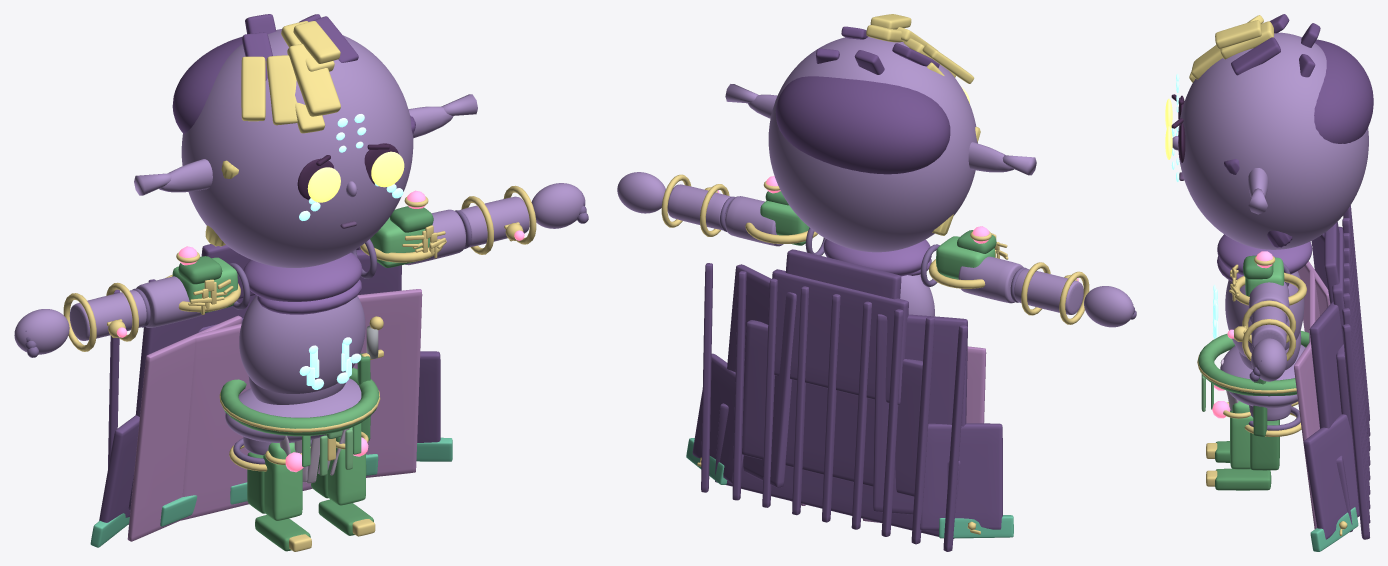
File: violet_cape_warrior.glb
3 views of the same model, side by side, from view 1: azimuth 30°, elevation 25°; view 2: azimuth 150°, elevation 25°; view 3: azimuth 270°, elevation 25° (orthographic). The views are drawn at different scales.
Visible parts, largest first — view 1: violet_cape_warrior; view 2: violet_cape_warrior; view 3: violet_cape_warrior.
Part boxes in pixels (x1=…): violet_cape_warrior: x1=14, y1=14, x2=588, y2=551; violet_cape_warrior: x1=617, y1=14, x2=1136, y2=551; violet_cape_warrior: x1=1165, y1=14, x2=1373, y2=551.
Bounding box in the file's own units: 2.68 × 2.31 × 0.9577.
